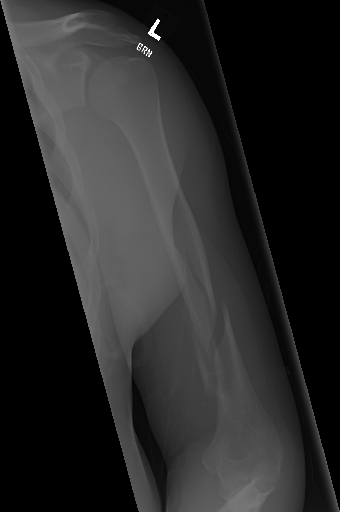fracture: (191, 280, 241, 396)
